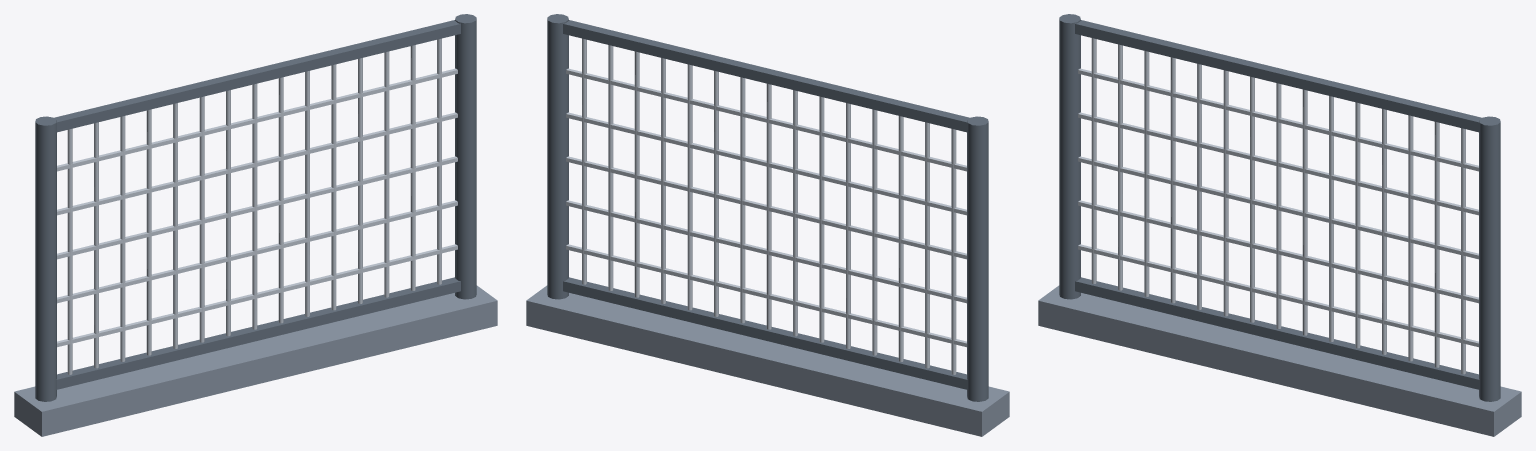
File: fence_metal_grid.glb
The picture shows the model from 3 angles, left to right: view 1: azimuth 30°, elevation 25°; view 2: azimuth 150°, elevation 25°; view 3: azimuth 330°, elevation 25°; orthographic projection.
Visible parts, largest first — view 1: fence_metal_grid; view 2: fence_metal_grid; view 3: fence_metal_grid.
Part boxes in pixels (x1,y1,x2,y2): fence_metal_grid: (14, 14, 497, 436); fence_metal_grid: (526, 14, 1009, 436); fence_metal_grid: (1038, 14, 1521, 436).
Bounding box in the file's own units: 3.8 × 2.4 × 0.4.
